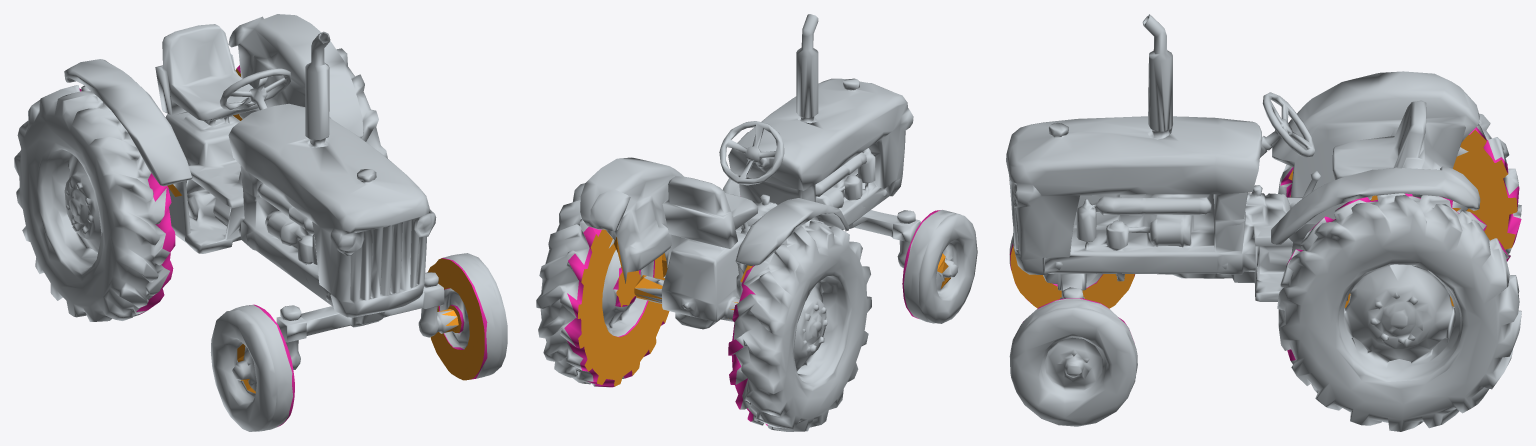
Rendered from tractor.glb.
3 renders of one model, left to right at view 1: azimuth 30°, elevation 25°; view 2: azimuth 150°, elevation 25°; view 3: azimuth 270°, elevation 25°, orthographic. The views are drawn at different scales.
Visible parts, largest first — view 1: tractor-body, tire-rear-left, tire-front-left, tire-front-right, tire-rear-right; view 2: tractor-body, tire-rear-left, tire-rear-right, tire-front-left; view 3: tractor-body, tire-rear-right, tire-front-right, tire-rear-left, tire-front-left.
Boxes of the visible parts, <box> form: tractor-body: <box>64,14,458,369</box>; tire-rear-left: <box>14,85,175,321</box>; tire-front-left: <box>210,304,294,431</box>; tire-front-right: <box>428,253,507,380</box>; tire-rear-right: <box>233,48,387,158</box>; tractor-body: <box>580,14,920,329</box>; tire-rear-left: <box>728,220,871,431</box>; tire-rear-right: <box>536,183,669,387</box>; tire-front-left: <box>902,210,977,323</box>; tractor-body: <box>1006,14,1480,301</box>; tire-rear-right: <box>1277,193,1521,431</box>; tire-front-right: <box>1009,298,1137,426</box>; tire-rear-left: <box>1278,113,1521,307</box>; tire-front-left: <box>1009,237,1135,308</box>.
Size of the model in its own units: 0.6306 by 0.7605 by 1.
